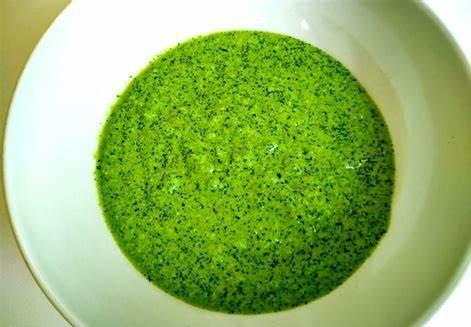GreenChutney: (95, 31, 395, 314)
